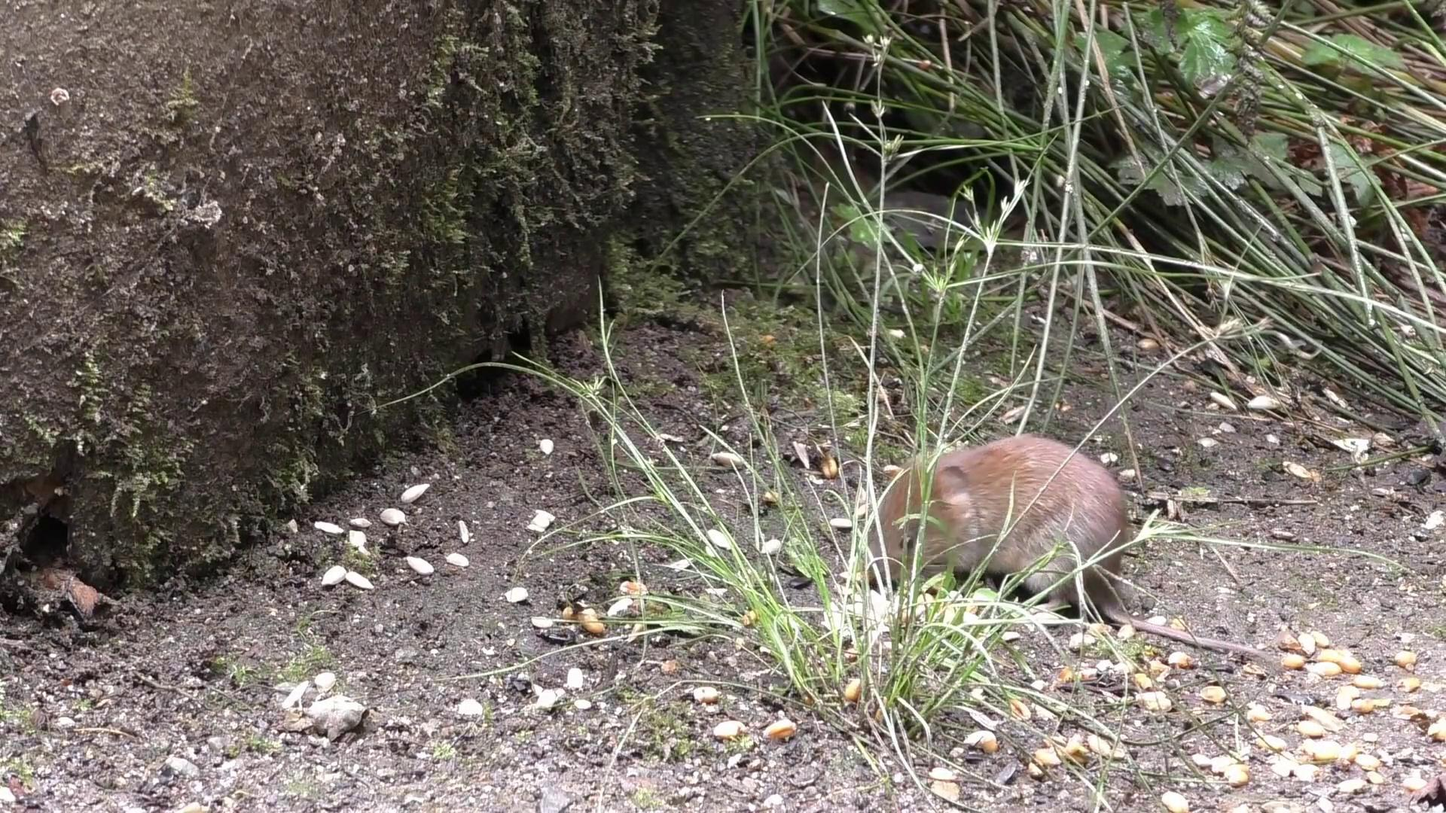rat: (859, 435, 1269, 667)
